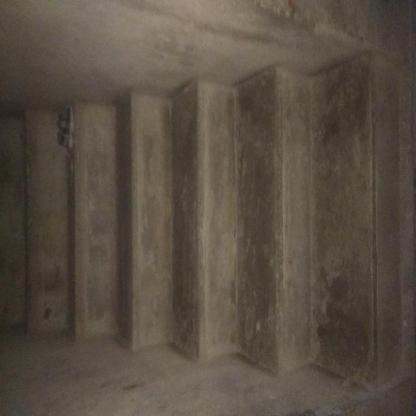stair: (4, 79, 416, 379)
